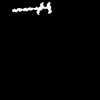double_crochet: (12, 2, 51, 13)
